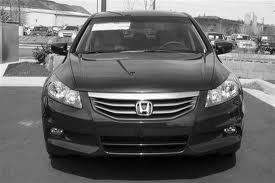car: (42, 13, 246, 171)
